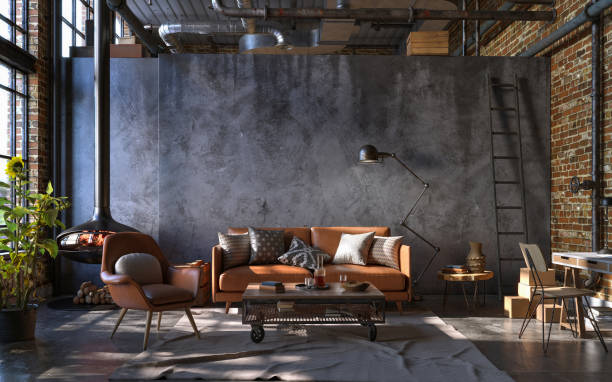chair: (99, 230, 203, 352), (517, 241, 609, 355)
floor lamp: (356, 144, 442, 298)
large plant: (0, 153, 67, 343)
side table: (436, 267, 494, 310)
sofa: (208, 223, 414, 315)
table: (239, 280, 387, 345)
